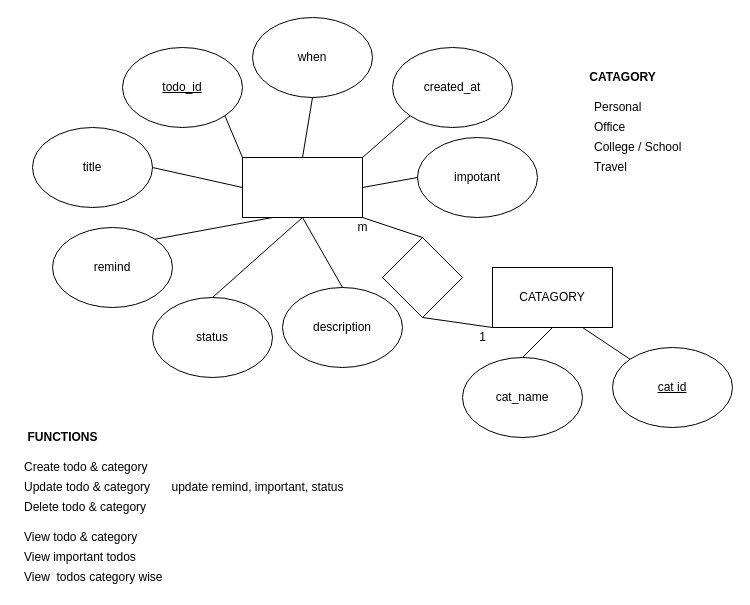
The diagram is 750 pixels wide and 605 high, and some of its shapes have lost their labels. Here are the shapes that lost their labels. From the top down, the box of each, then its label:
(242, 156, 362, 218): TODO
(382, 236, 462, 318): belongs to
